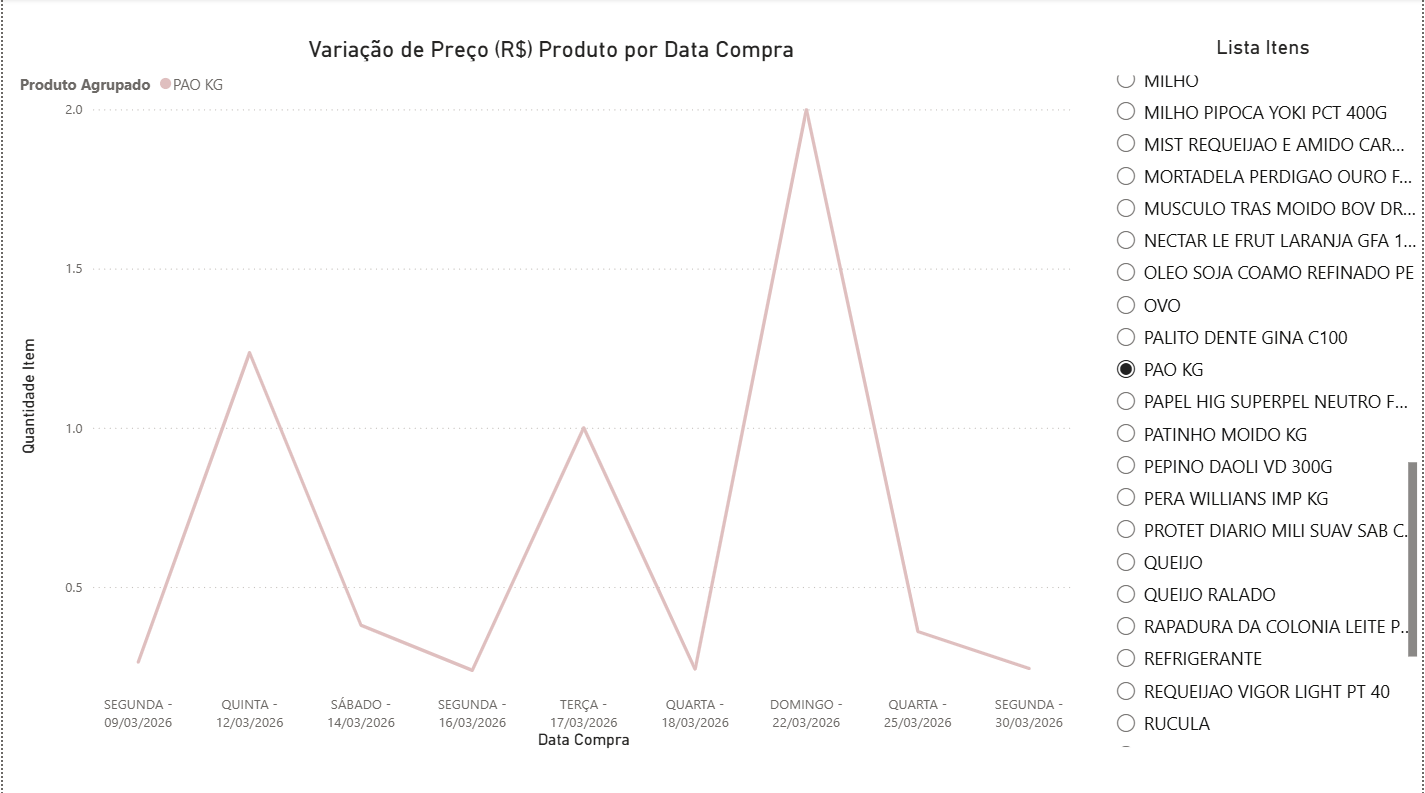

Layout of this report page (visuals, bound fields, positions):
{"tool":"powerbi","page":{"name":"Variação de Preço Produto","canvas":[1280,720],"ordinal":3},"visuals":[{"type":"lineChart","title":"Variação de Preço (R$) Produto por Data Compra","fields":{"Category":["Mercado.Filtro Data"],"Series":["Mercado.Personalizar"],"Y":["Mercado.Total Qtd"]},"box":[9.8,34.2,968.5,648.1],"z":0},{"type":"slicer","title":"Lista Itens","fields":{"Values":["Mercado.Personalizar"]},"box":[991.7,34.2,288.6,646.9],"z":1000}]}

Visuals, with their boxes in screenshot pixels (x1, y1, x2, y2), scaled from the page's 1280x720 canvas onto the 1425x793 screenshot:
"Variação de Preço (R$) Produto por Data Compra" lineChart: BBox(11, 38, 1089, 751)
"Lista Itens" slicer: BBox(1104, 38, 1424, 750)
